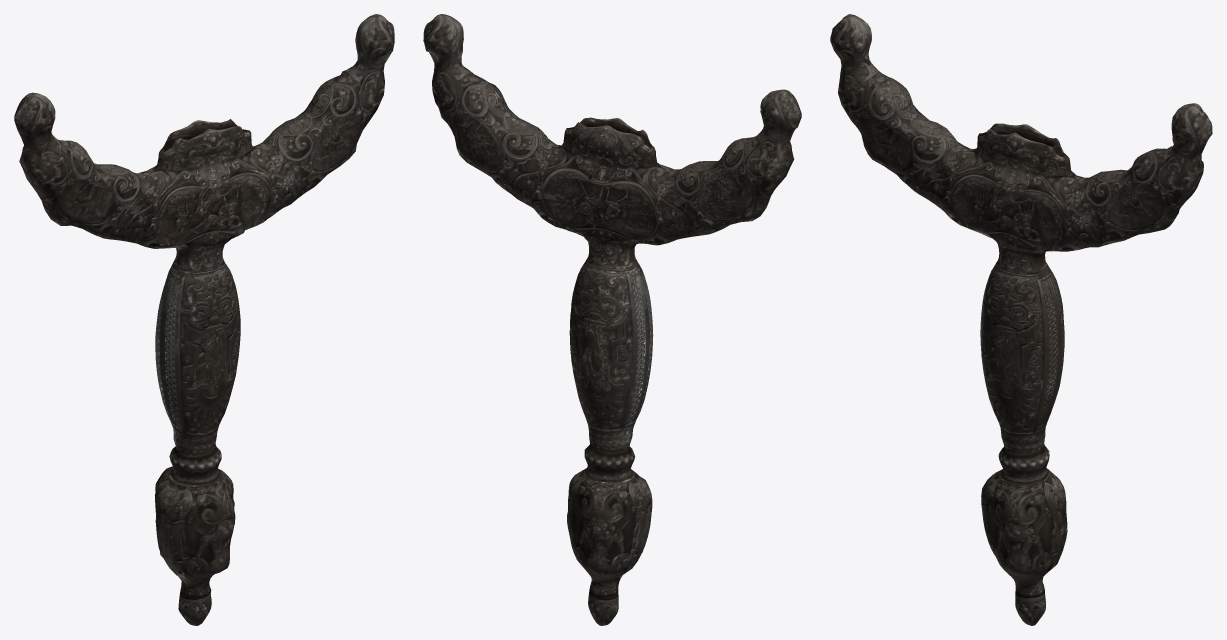
File: Sword_Handle_01.gltf
3 views of the same model, side by side, from view 1: azimuth 30°, elevation 25°; view 2: azimuth 150°, elevation 25°; view 3: azimuth 330°, elevation 25° (orthographic). The views are drawn at different scales.
Parts seen in each view (by area): view 1: Handle_low.001; view 2: Handle_low.001; view 3: Handle_low.001.
Boxes of the visible parts, x1,y1,x2,y2 form: Handle_low.001: [14, 14, 394, 625]; Handle_low.001: [423, 14, 801, 625]; Handle_low.001: [830, 14, 1212, 625].
Size of the model in its own units: 0.1668 by 0.2428 by 0.0363.
1 material, 1 textured.
